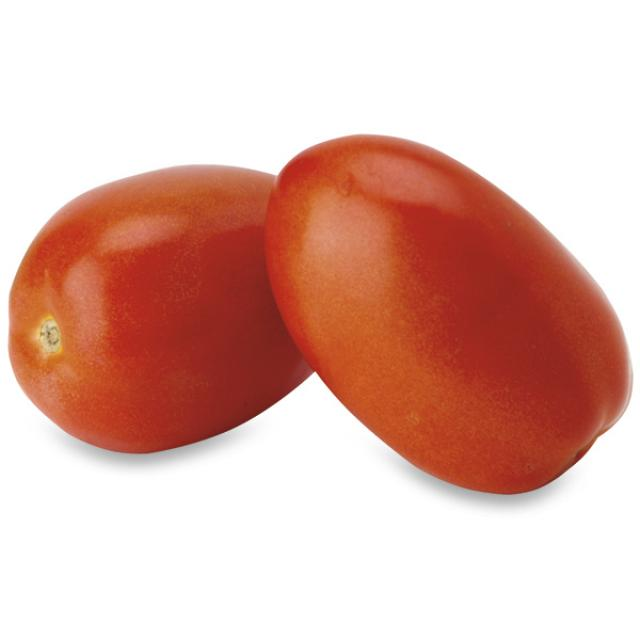Fresh_tomato: (291, 126, 627, 504), (19, 158, 291, 508)
